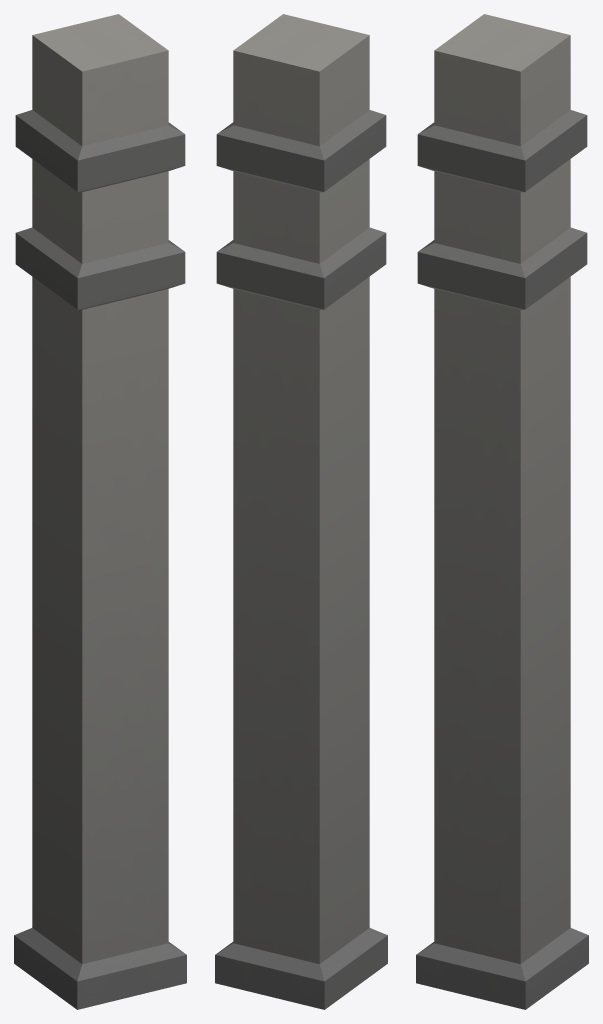
File: School_column.fbx
3 views of the same model, side by side, from view 1: azimuth 30°, elevation 25°; view 2: azimuth 150°, elevation 25°; view 3: azimuth 330°, elevation 25° (orthographic).
Visible parts, largest first — view 1: Cube.086; view 2: Cube.086; view 3: Cube.086.
Boxes of the visible parts, x1,y1,x2,y2 form: Cube.086: [14, 14, 186, 1009]; Cube.086: [215, 14, 387, 1009]; Cube.086: [416, 14, 588, 1009].
Size of the model in its own units: 1.16 by 9.43 by 1.16.
